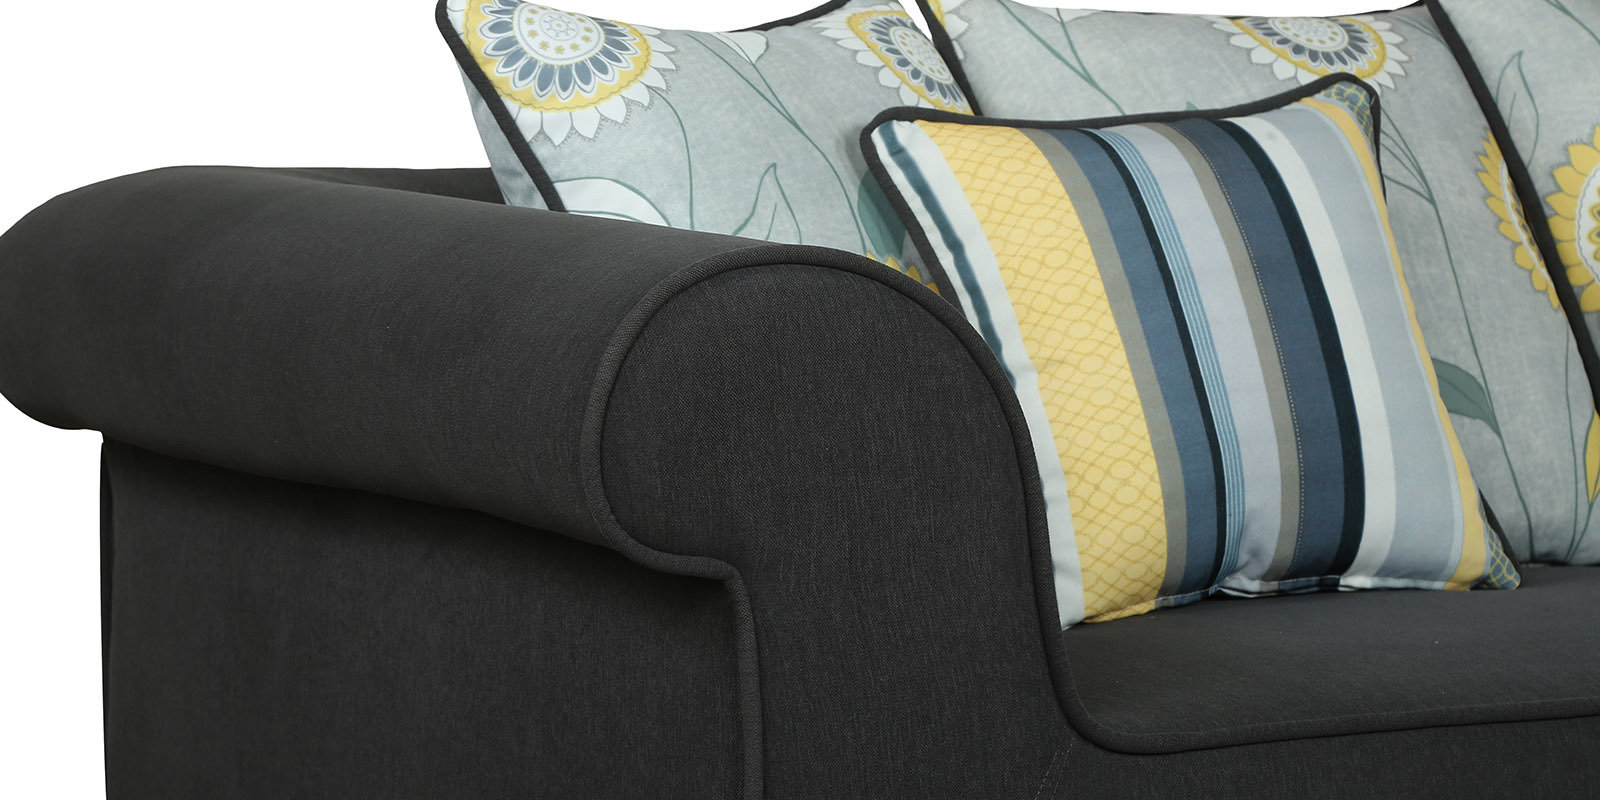Cielo Three Seater Sofa in Charcoal Grey Colour by CasaCraft: (9, 7, 1600, 716)
